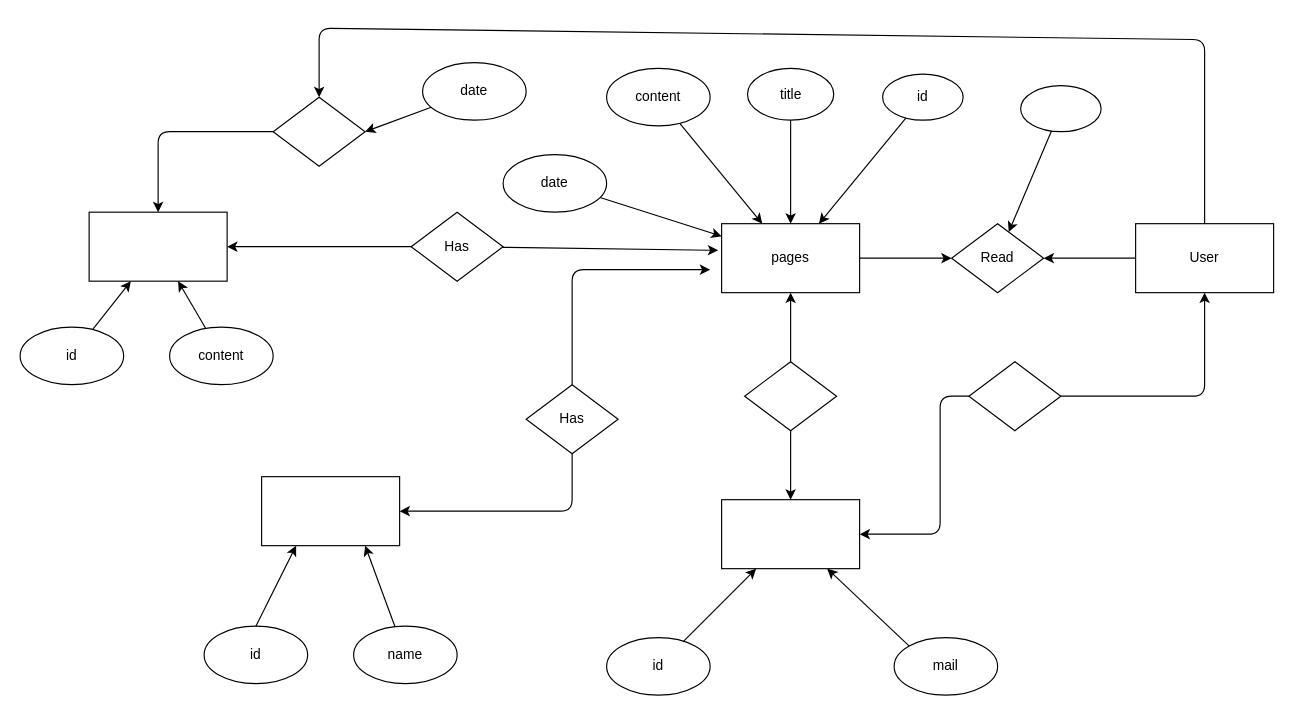
This 1294x715 diagram has some shape labels left out. Here are the shapes that lost their labels. From the top down, the box of each, then its label:
(1019, 85, 1101, 132): views
(272, 96, 365, 166): write
(88, 211, 227, 281): commenet
(743, 361, 837, 431): Edit
(968, 361, 1061, 431): Control
(260, 476, 400, 546): category
(720, 499, 860, 569): Admin
